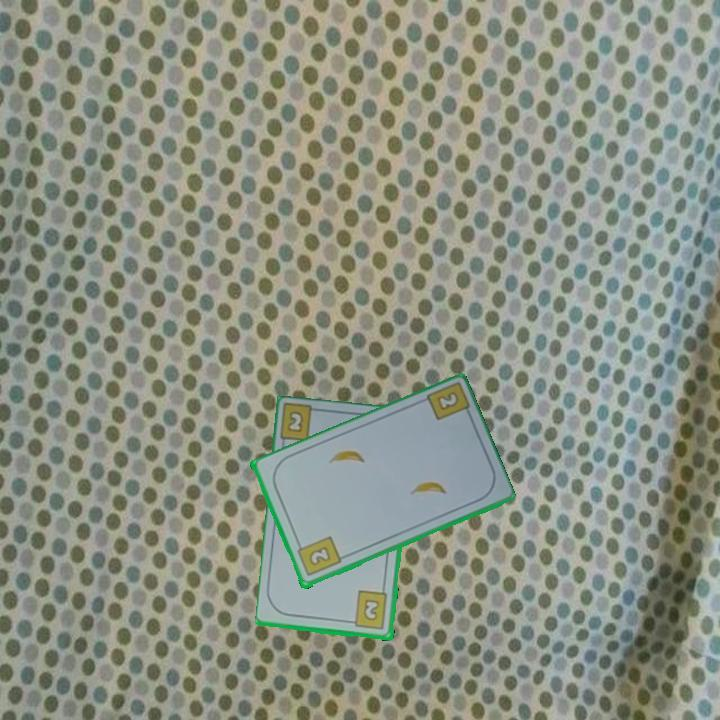2b: (293, 533, 344, 579), (345, 588, 390, 632), (433, 388, 462, 414), (284, 407, 306, 436)
